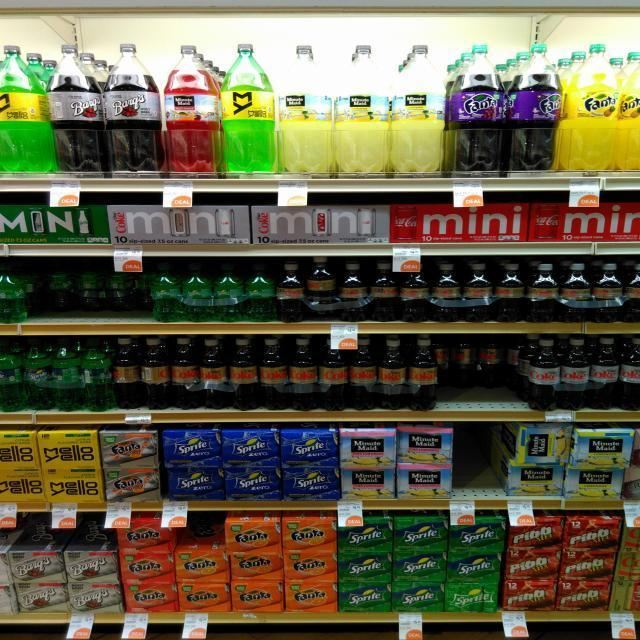empty: (456, 424, 486, 510)
